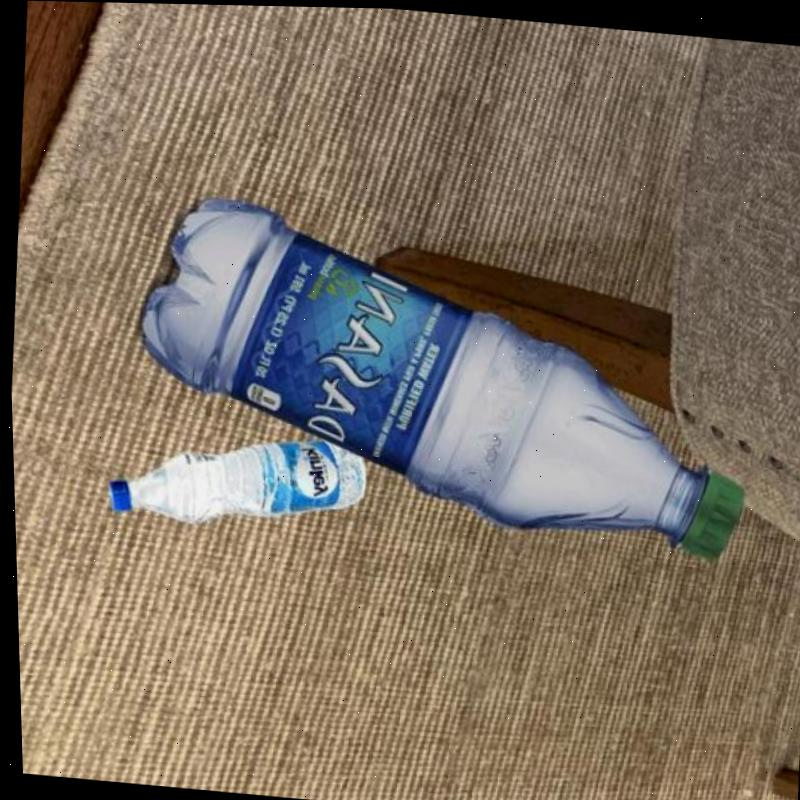botella: (111, 186, 761, 564), (103, 424, 367, 538)
